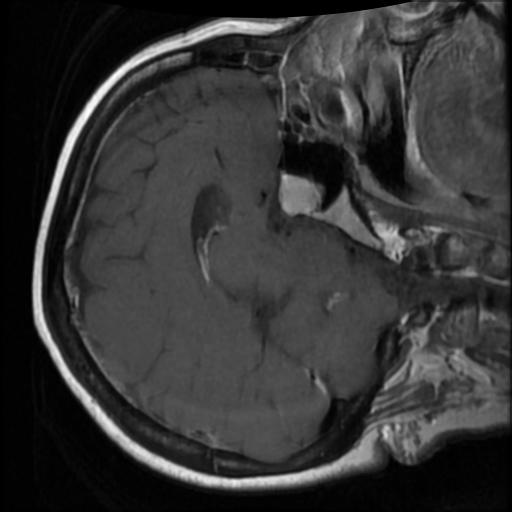pituitary tumour: (278, 172, 323, 215)
